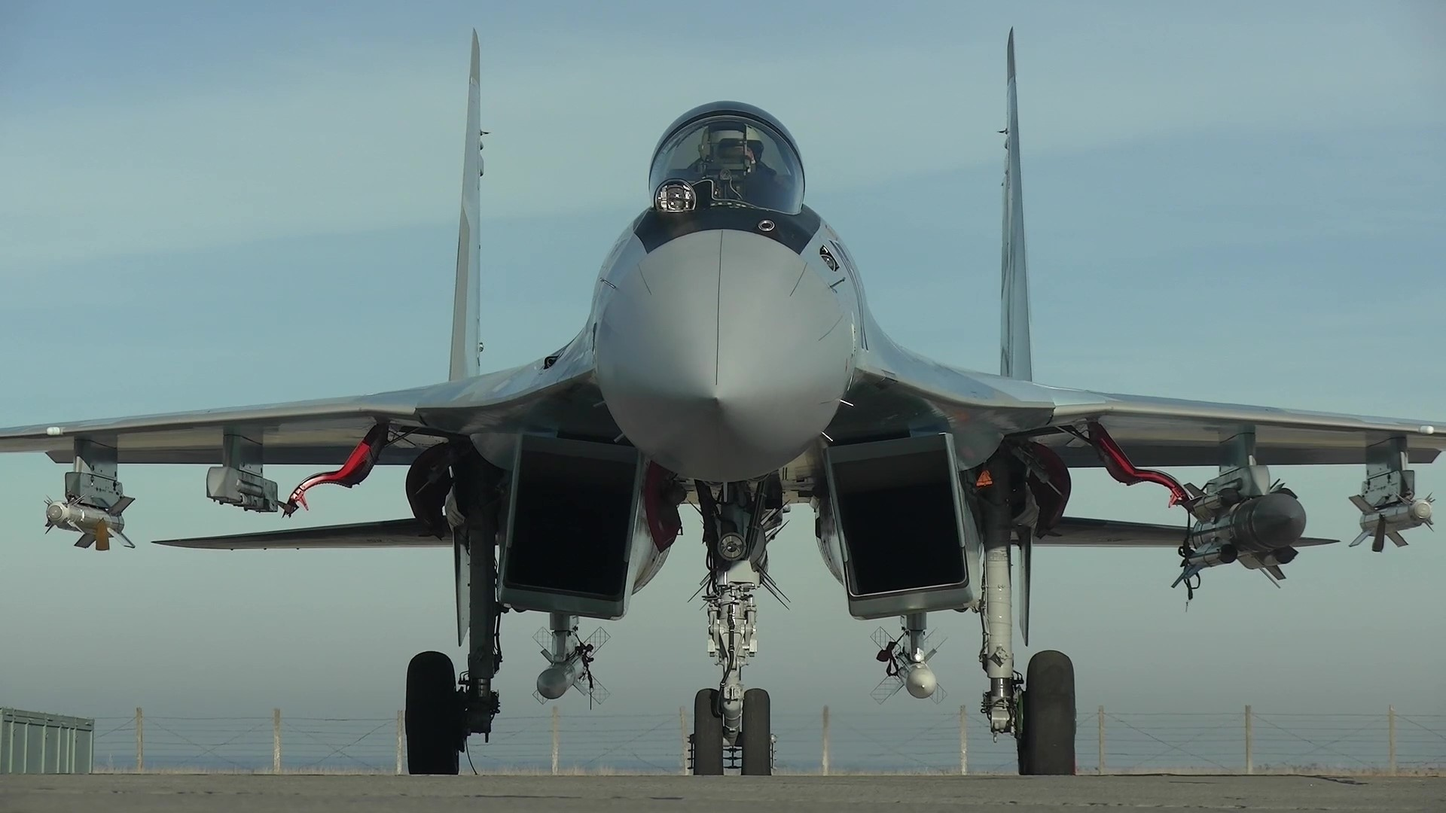Su35: (0, 19, 1446, 781)
